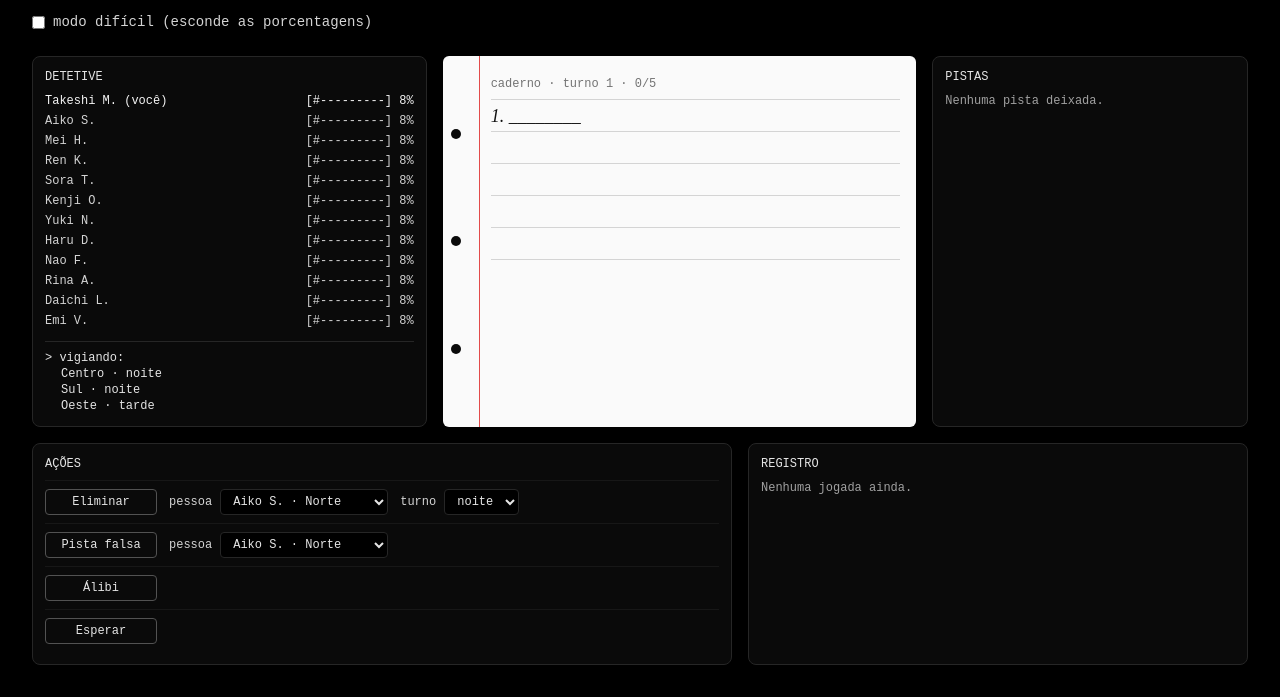
Test: App › logs the moves in the REGISTRO panel
The width and height of the screenshot is (1280, 697).
(page scrolled)
Click the button "Esperar" at (101,631), box [45,618,157,644]
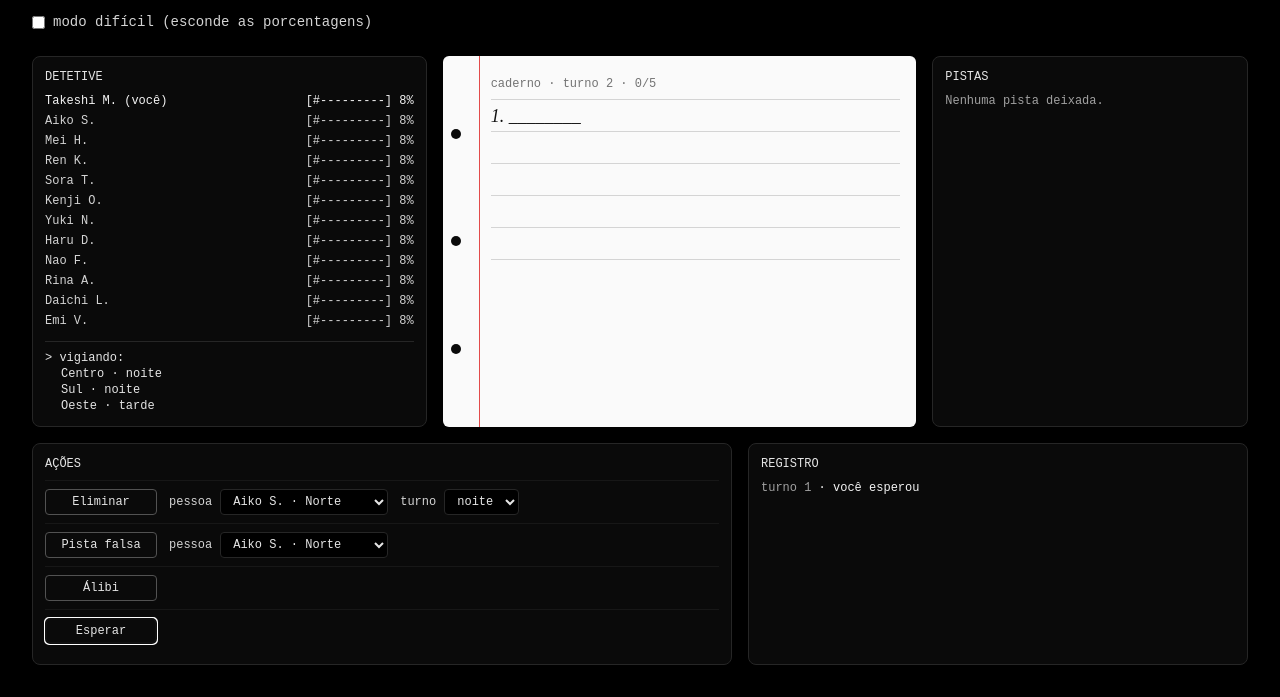
Click the button "Eliminar" at (101,502), box [45,489,157,515]
(page scrolled)
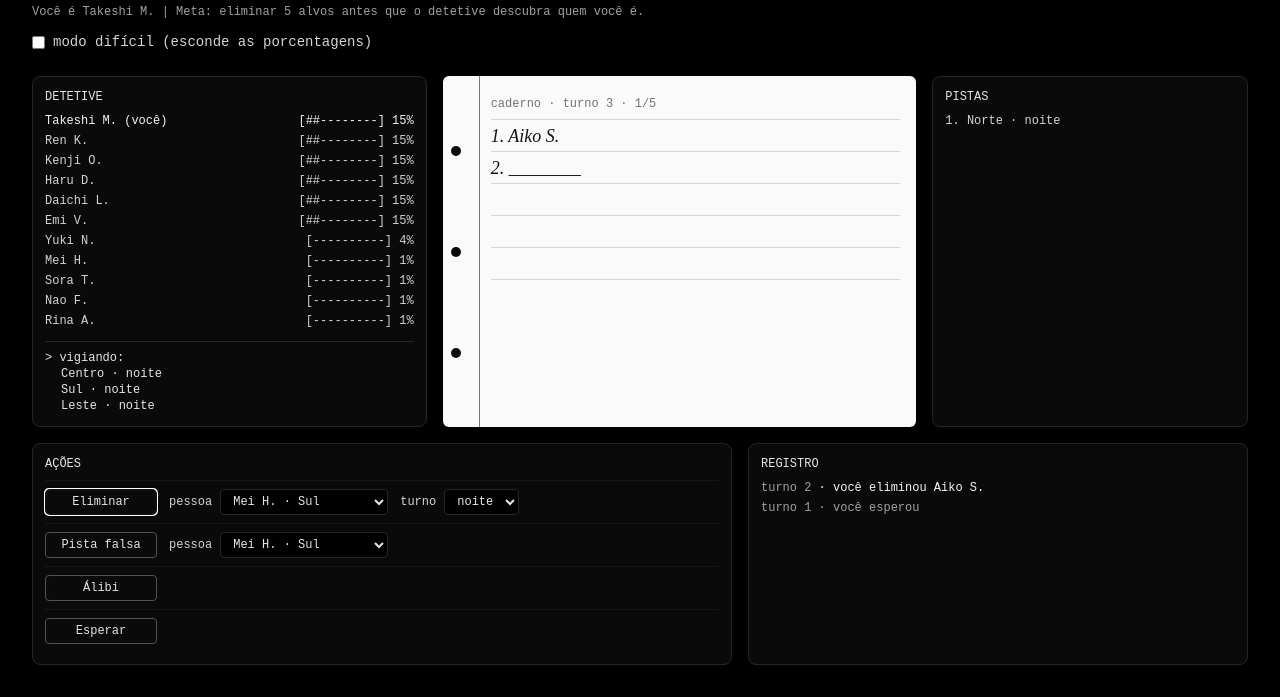
Expected: the list item "turno 1 · você esperou" is shown, [761,501,920,515]
Expected: the list item "turno 2 · você eliminou Aiko S." is shown, [761,481,984,495]
